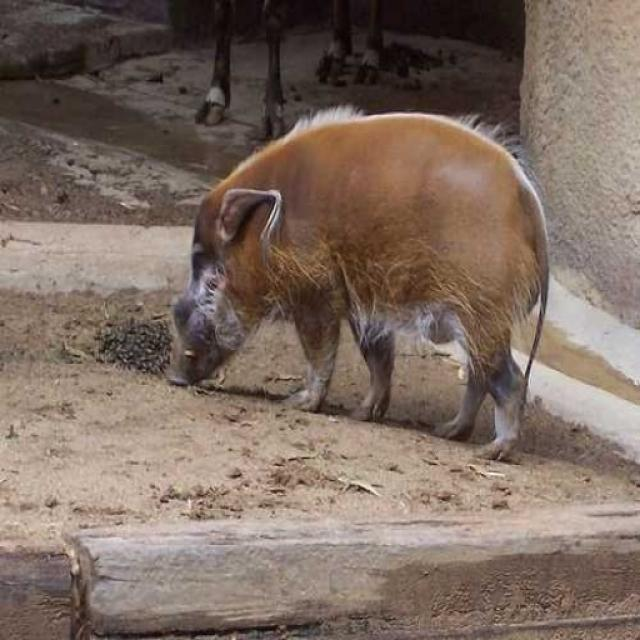pig: (174, 66, 614, 425)
